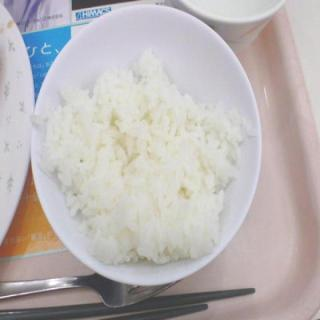Nasi: (37, 47, 259, 267)
